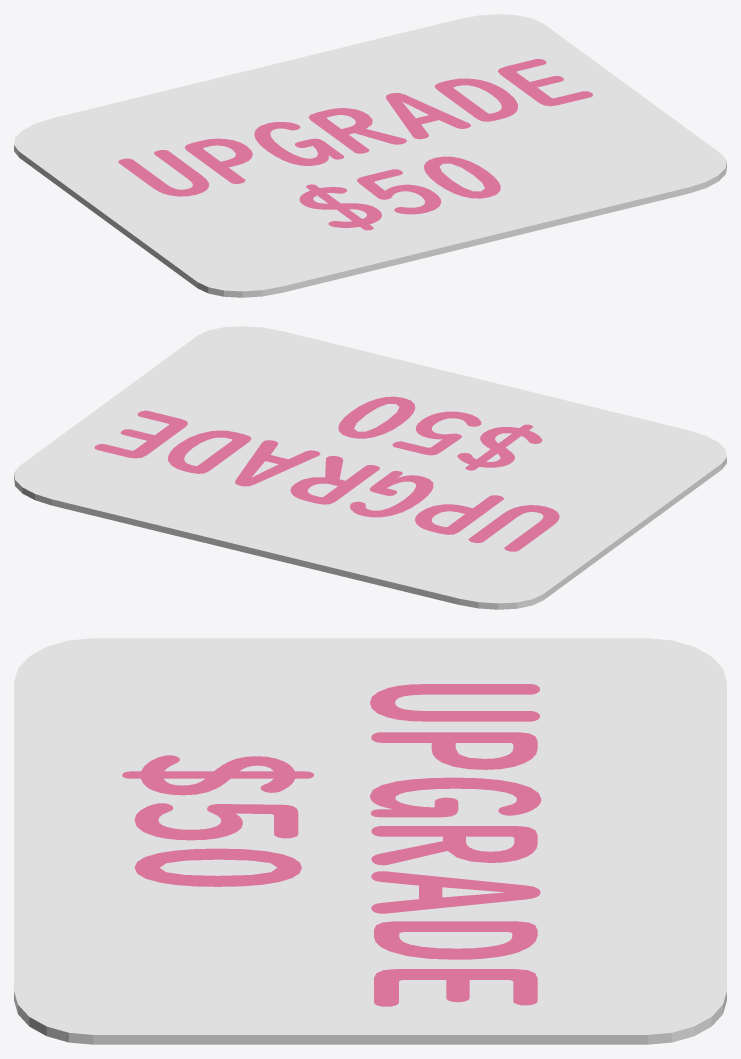
Rendered from Nail Table Upgrade Ui Place Holder.fbx.
3 renders of one model, top to bottom at view 1: azimuth 30°, elevation 25°; view 2: azimuth 150°, elevation 25°; view 3: azimuth 270°, elevation 25°, orthographic. The views are drawn at different scales.
Visible parts, largest first — view 1: Nail table Ui Place holder, Text, Text.001; view 2: Nail table Ui Place holder, Text, Text.001; view 3: Nail table Ui Place holder, Text, Text.001.
Part boxes in pixels (x1=…): Nail table Ui Place holder: x1=14, y1=14, x2=726, y2=297; Text: x1=118, y1=59, x2=592, y2=196; Text.001: x1=299, y1=156, x2=500, y2=230; Nail table Ui Place holder: x1=14, y1=326, x2=726, y2=609; Text: x1=94, y1=410, x2=559, y2=551; Text.001: x1=338, y1=396, x2=542, y2=470; Nail table Ui Place holder: x1=14, y1=638, x2=726, y2=1044; Text: x1=370, y1=684, x2=541, y2=1006; Text.001: x1=122, y1=755, x2=313, y2=886.
Size of the model in its own units: 2.63 by 0.034 by 2.
